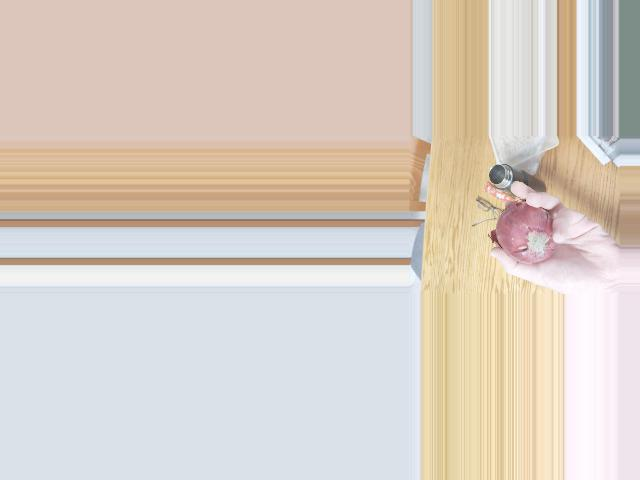onion: (502, 202, 557, 265)
